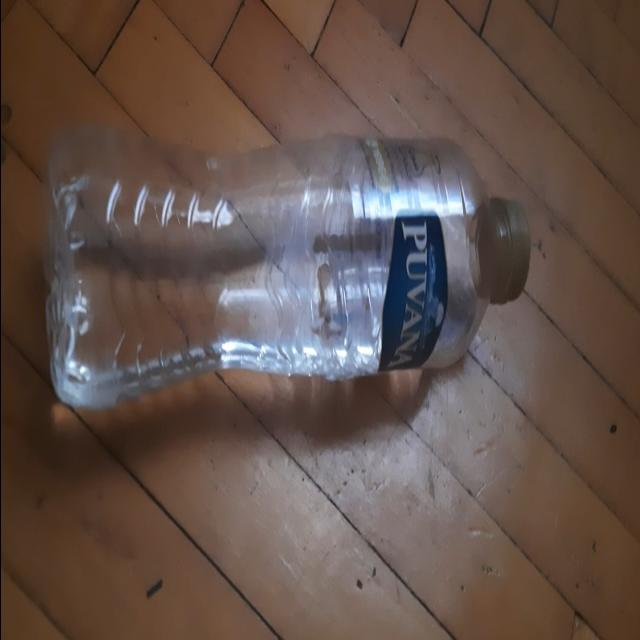Plastic: (40, 125, 530, 409), (358, 132, 462, 366), (489, 196, 530, 302)
